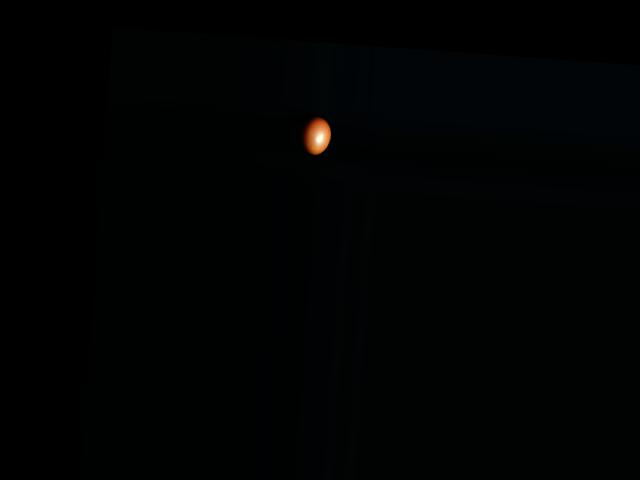egg: (298, 114, 331, 155)
